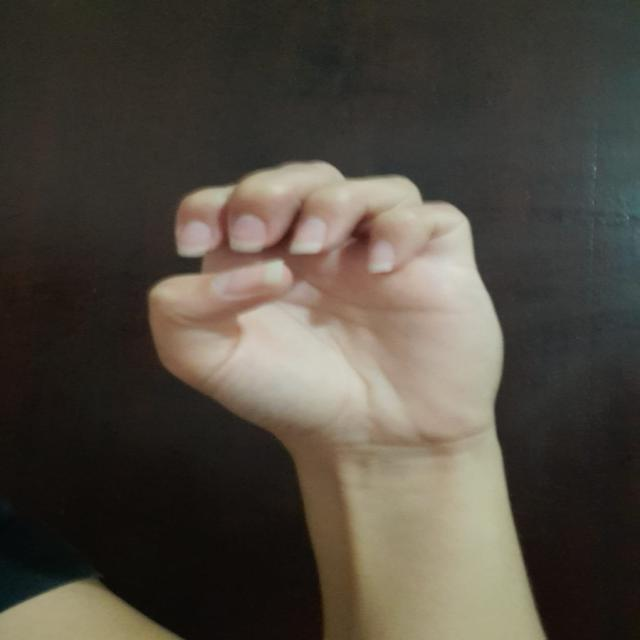E: (135, 156, 520, 448)
